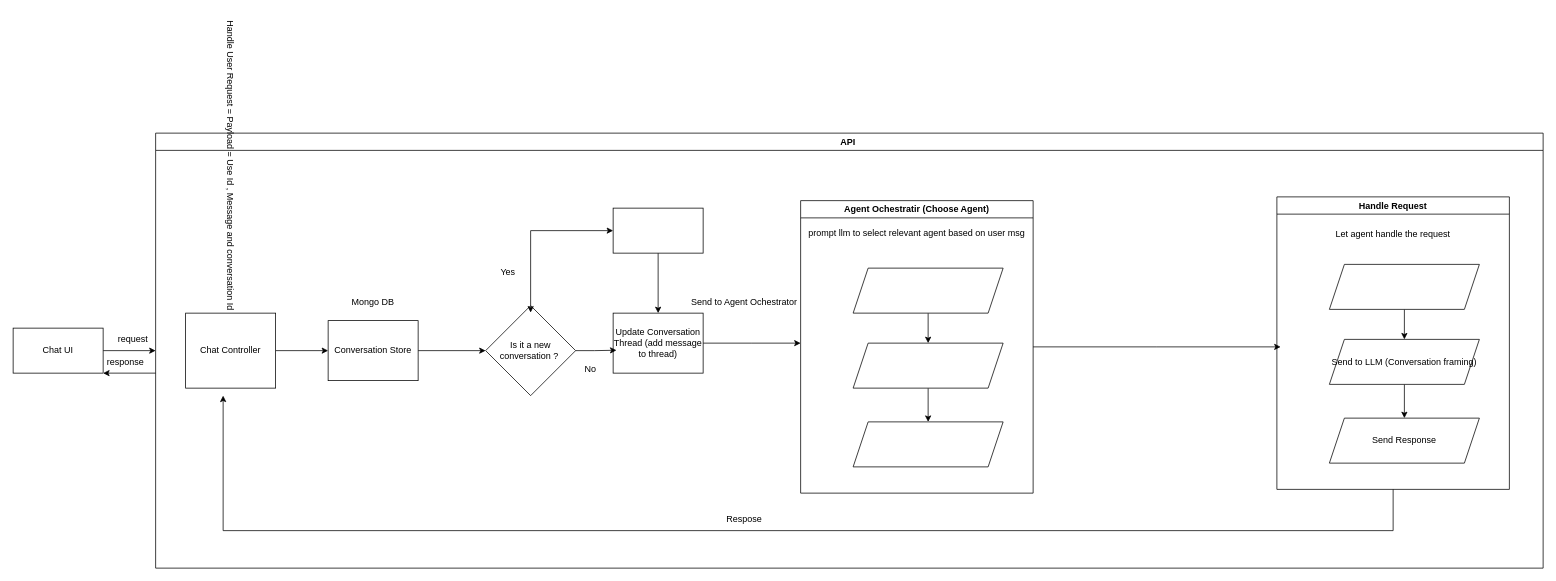
This 1556x581 diagram has some shape labels left out. The shapes that lost their labels are listed below. From the top down, each one's centre as x and y in pixels, then its label:
At point 657,230: "Update Conversation Store".
At point 927,290: "Build System Prompt".
At point 1404,286: "Search Knowledgebase (Rag)".
At point 927,365: "Send to LLM".
At point 927,444: "Select Agent".
